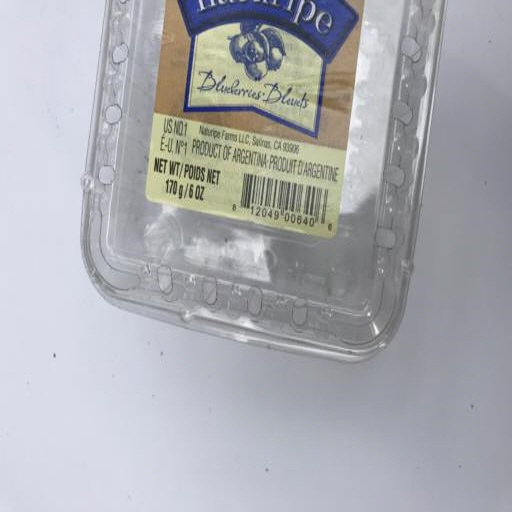Plastic_4: (81, 1, 448, 361)
